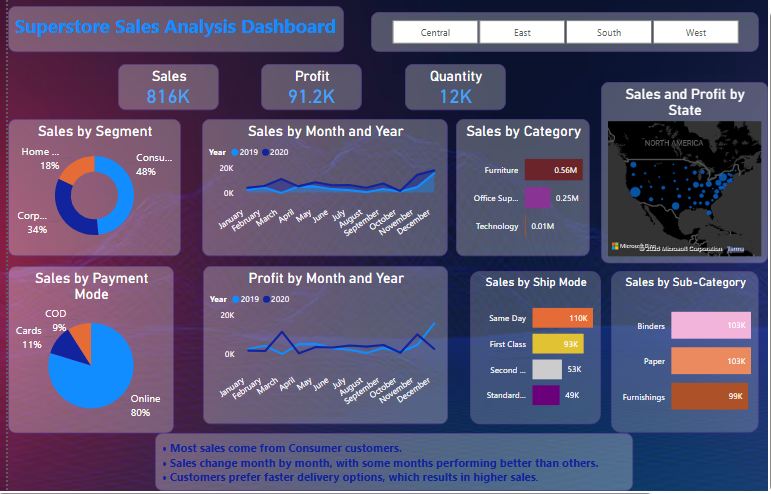

The page's visual inventory and layout, read from the dashboard file:
{"tool":"powerbi","page":{"name":"Page 1","canvas":[1280,720],"ordinal":0},"visuals":[{"type":"barChart","title":" Sales by Category","fields":{"Y":["Amazon Store Sales Data xlsx -.Total Sales"],"Category":["Amazon Store Sales Data xlsx -.Category"]},"box":[640,188.6,191.4,195.7],"z":0},{"type":"barChart","title":"Sales by Sub-Category","fields":{"Y":["Amazon Store Sales Data xlsx -.Total Sales"],"Category":["Amazon Store Sales Data xlsx -.Sub-Category","Amazon Store Sales Data xlsx -.Category"]},"box":[861.4,405.7,211.4,231.4],"z":1000},{"type":"slicer","fields":{"Values":["Amazon Store Sales Data xlsx -.Region"]},"box":[518.6,35.7,554.3,57.1],"z":2000},{"type":"barChart","title":" Sales by Ship Mode","fields":{"Y":["Amazon Store Sales Data xlsx -.Total Sales"],"Category":["Amazon Store Sales Data xlsx -.Same Day"]},"box":[660,405.7,187.1,218.6],"z":3000},{"type":"stackedAreaChart","title":" Sales by Month and Year","fields":{"Category":["Amazon Store Sales Data xlsx -.Order Date.Variation.Date Hierarchy.Month","Amazon Store Sales Data xlsx -.Order Date.Variation.Date Hierarchy.Day"],"Series":["Amazon Store Sales Data xlsx -.Order Date.Variation.Date Hierarchy.Year"],"Y":["Sum(Amazon Store Sales Data xlsx -.Profit)"]},"box":[277.1,188.6,351.4,195.7],"z":4000},{"type":"map","title":" Sales and Profit by State","fields":{"Category":["Amazon Store Sales Data xlsx -.State"],"Size":["Sum(Amazon Store Sales Data xlsx -.Sales)"]},"box":[847.1,135.7,238.6,258.6],"z":5000},{"type":"donutChart","title":" Sales by Segment","fields":{"Category":["Amazon Store Sales Data xlsx -.Segment"],"Y":["Sum(Amazon Store Sales Data xlsx -.Sales)"]},"box":[0,188.6,247.1,195.7],"z":6000},{"type":"pieChart","title":" Sales by Payment Mode","fields":{"Category":["Amazon Store Sales Data xlsx -.Online"],"Y":["Sum(Amazon Store Sales Data xlsx -.Sales)"]},"box":[0,398.6,237.1,238.6],"z":7000},{"type":"textbox","box":[0,27.1,480,65.7],"z":8000},{"type":"card","title":"Sales","fields":{"Values":["Sum(Amazon Store Sales Data xlsx -.Sales)"]},"box":[157.1,110,144.3,65.7],"z":9000},{"type":"card","title":"Profit","fields":{"Values":["Sum(Amazon Store Sales Data xlsx -.Profit)"]},"box":[361.4,110,144.3,65.7],"z":10000},{"type":"card","title":"Quantity","fields":{"Values":["Sum(Amazon Store Sales Data xlsx -.Quantity)"]},"box":[567.1,110,144.3,65.7],"z":11000},{"type":"lineChart","title":" Profit by Month and Year","fields":{"Category":["Amazon Store Sales Data xlsx -.Order Date.Variation.Date Hierarchy.Month"],"Series":["Amazon Store Sales Data xlsx -.Order Date.Variation.Date Hierarchy.Year"],"Y":["Sum(Amazon Store Sales Data xlsx -.Profit)"]},"box":[278.6,398.6,350,225.7],"z":12000},{"type":"textbox","box":[210,637.1,682.9,82.9],"z":13000}]}

Visuals, with their boxes on the page's 1280x720 design canvas (x1, y1, x2, y2). These are canvas units, not pixel positions in the 771x494 screenshot, which may show the page scaled, cropped or inside an application window:
" Sales by Category" barChart: box(640, 189, 831, 384)
"Sales by Sub-Category" barChart: box(861, 406, 1073, 637)
slicer - Amazon Store Sales Data xlsx -.Region: box(519, 36, 1073, 93)
" Sales by Ship Mode" barChart: box(660, 406, 847, 624)
" Sales by Month and Year" stackedAreaChart: box(277, 189, 628, 384)
" Sales and Profit by State" map: box(847, 136, 1086, 394)
" Sales by Segment" donutChart: box(0, 189, 247, 384)
" Sales by Payment Mode" pieChart: box(0, 399, 237, 637)
textbox: box(0, 27, 480, 93)
"Sales" card: box(157, 110, 301, 176)
"Profit" card: box(361, 110, 506, 176)
"Quantity" card: box(567, 110, 711, 176)
" Profit by Month and Year" lineChart: box(279, 399, 629, 624)
textbox: box(210, 637, 893, 720)
